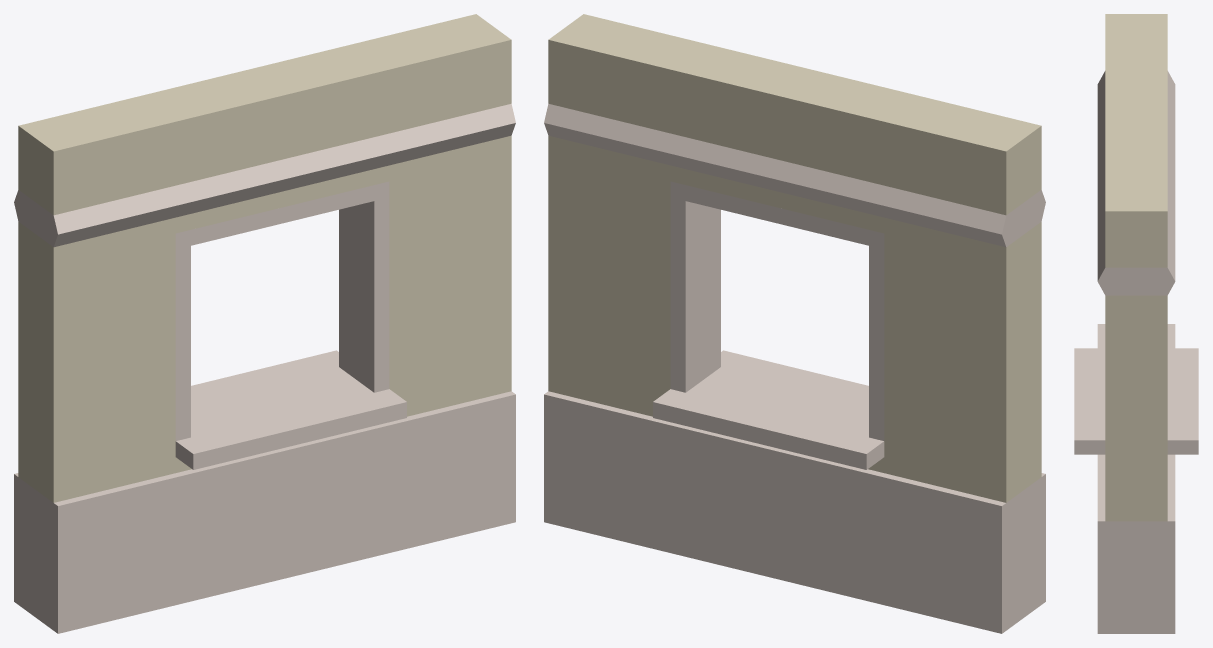
Rendered from roman_wall_window_2.fbx.
3 views of the same model, side by side, from view 1: azimuth 30°, elevation 25°; view 2: azimuth 150°, elevation 25°; view 3: azimuth 270°, elevation 25° (orthographic). The views are drawn at different scales.
Parts seen in each view (by area): view 1: Cube.043; view 2: Cube.043; view 3: Cube.043.
Part boxes in pixels (x1,y1,x2,y2): Cube.043: [14, 14, 515, 633]; Cube.043: [544, 14, 1045, 633]; Cube.043: [1074, 14, 1198, 633].
Bounding box in the file's own units: 3 × 3 × 0.8.
